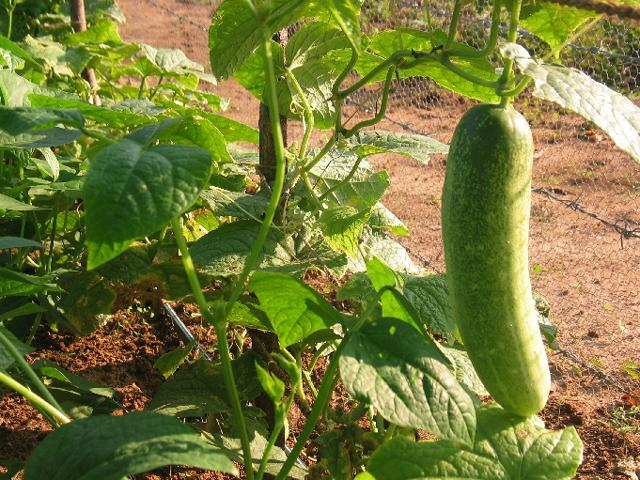cucumber: (442, 105, 550, 415)
